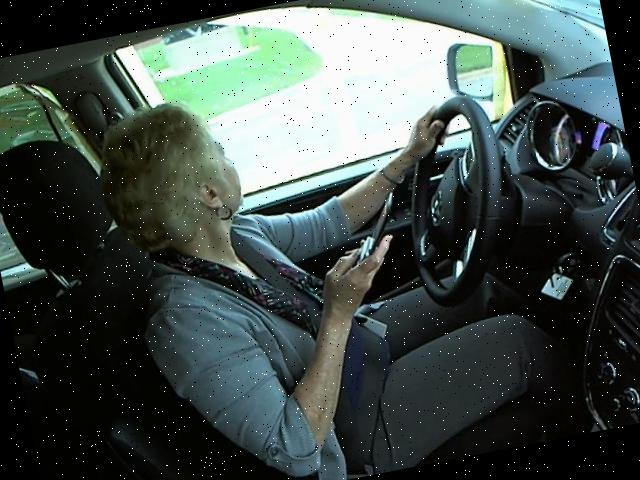c1 - Texting: (76, 31, 568, 479)
